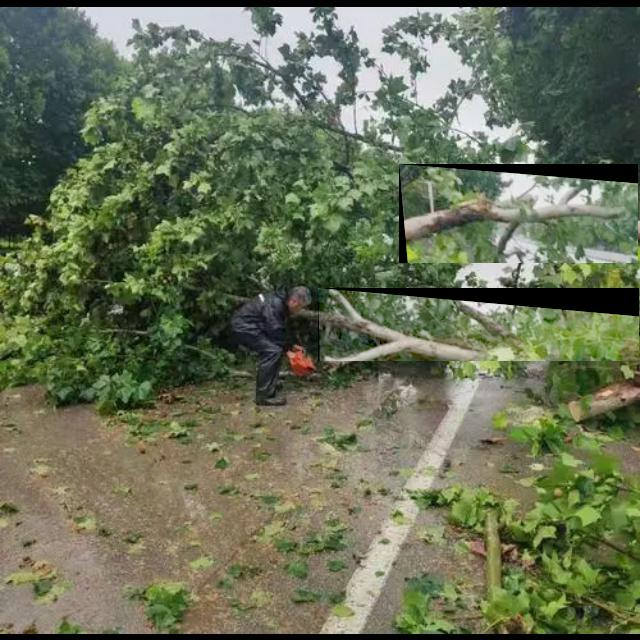Fallen Tree: (399, 164, 639, 264), (318, 288, 640, 362)
